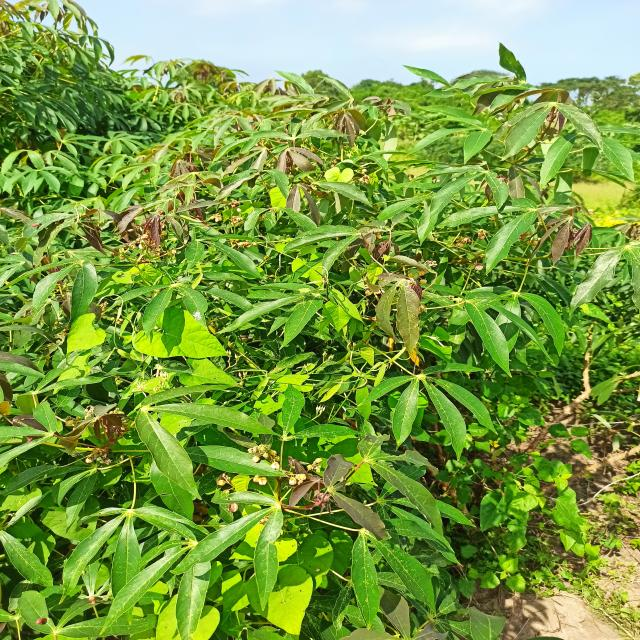Maleza: (479, 436, 623, 594), (236, 577, 311, 633), (138, 315, 231, 358)
Mosaico: (42, 406, 133, 465), (374, 269, 421, 345), (552, 216, 597, 258)
Mosca: (34, 612, 51, 633)
